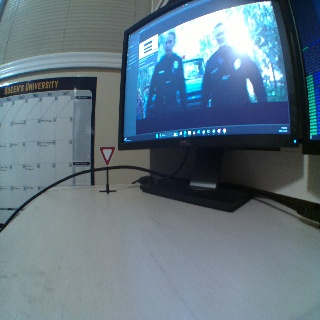sign_yield: (97, 146, 116, 163)
